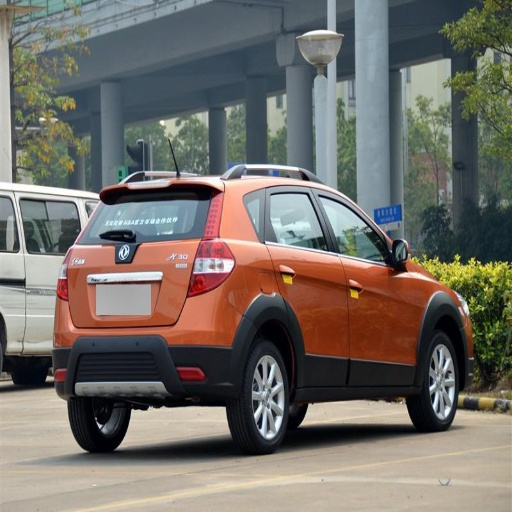back_bumper: (47, 285, 250, 397)
back_right_door: (264, 185, 347, 383)
trunk: (58, 241, 198, 334)
